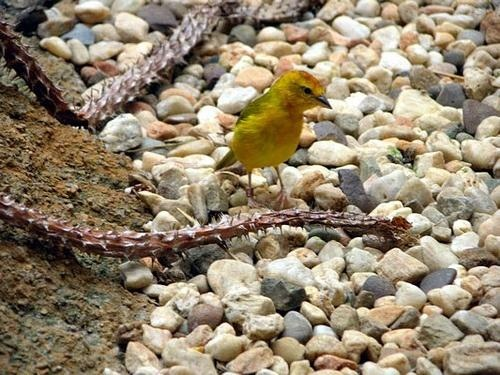bird: (213, 71, 334, 209)
